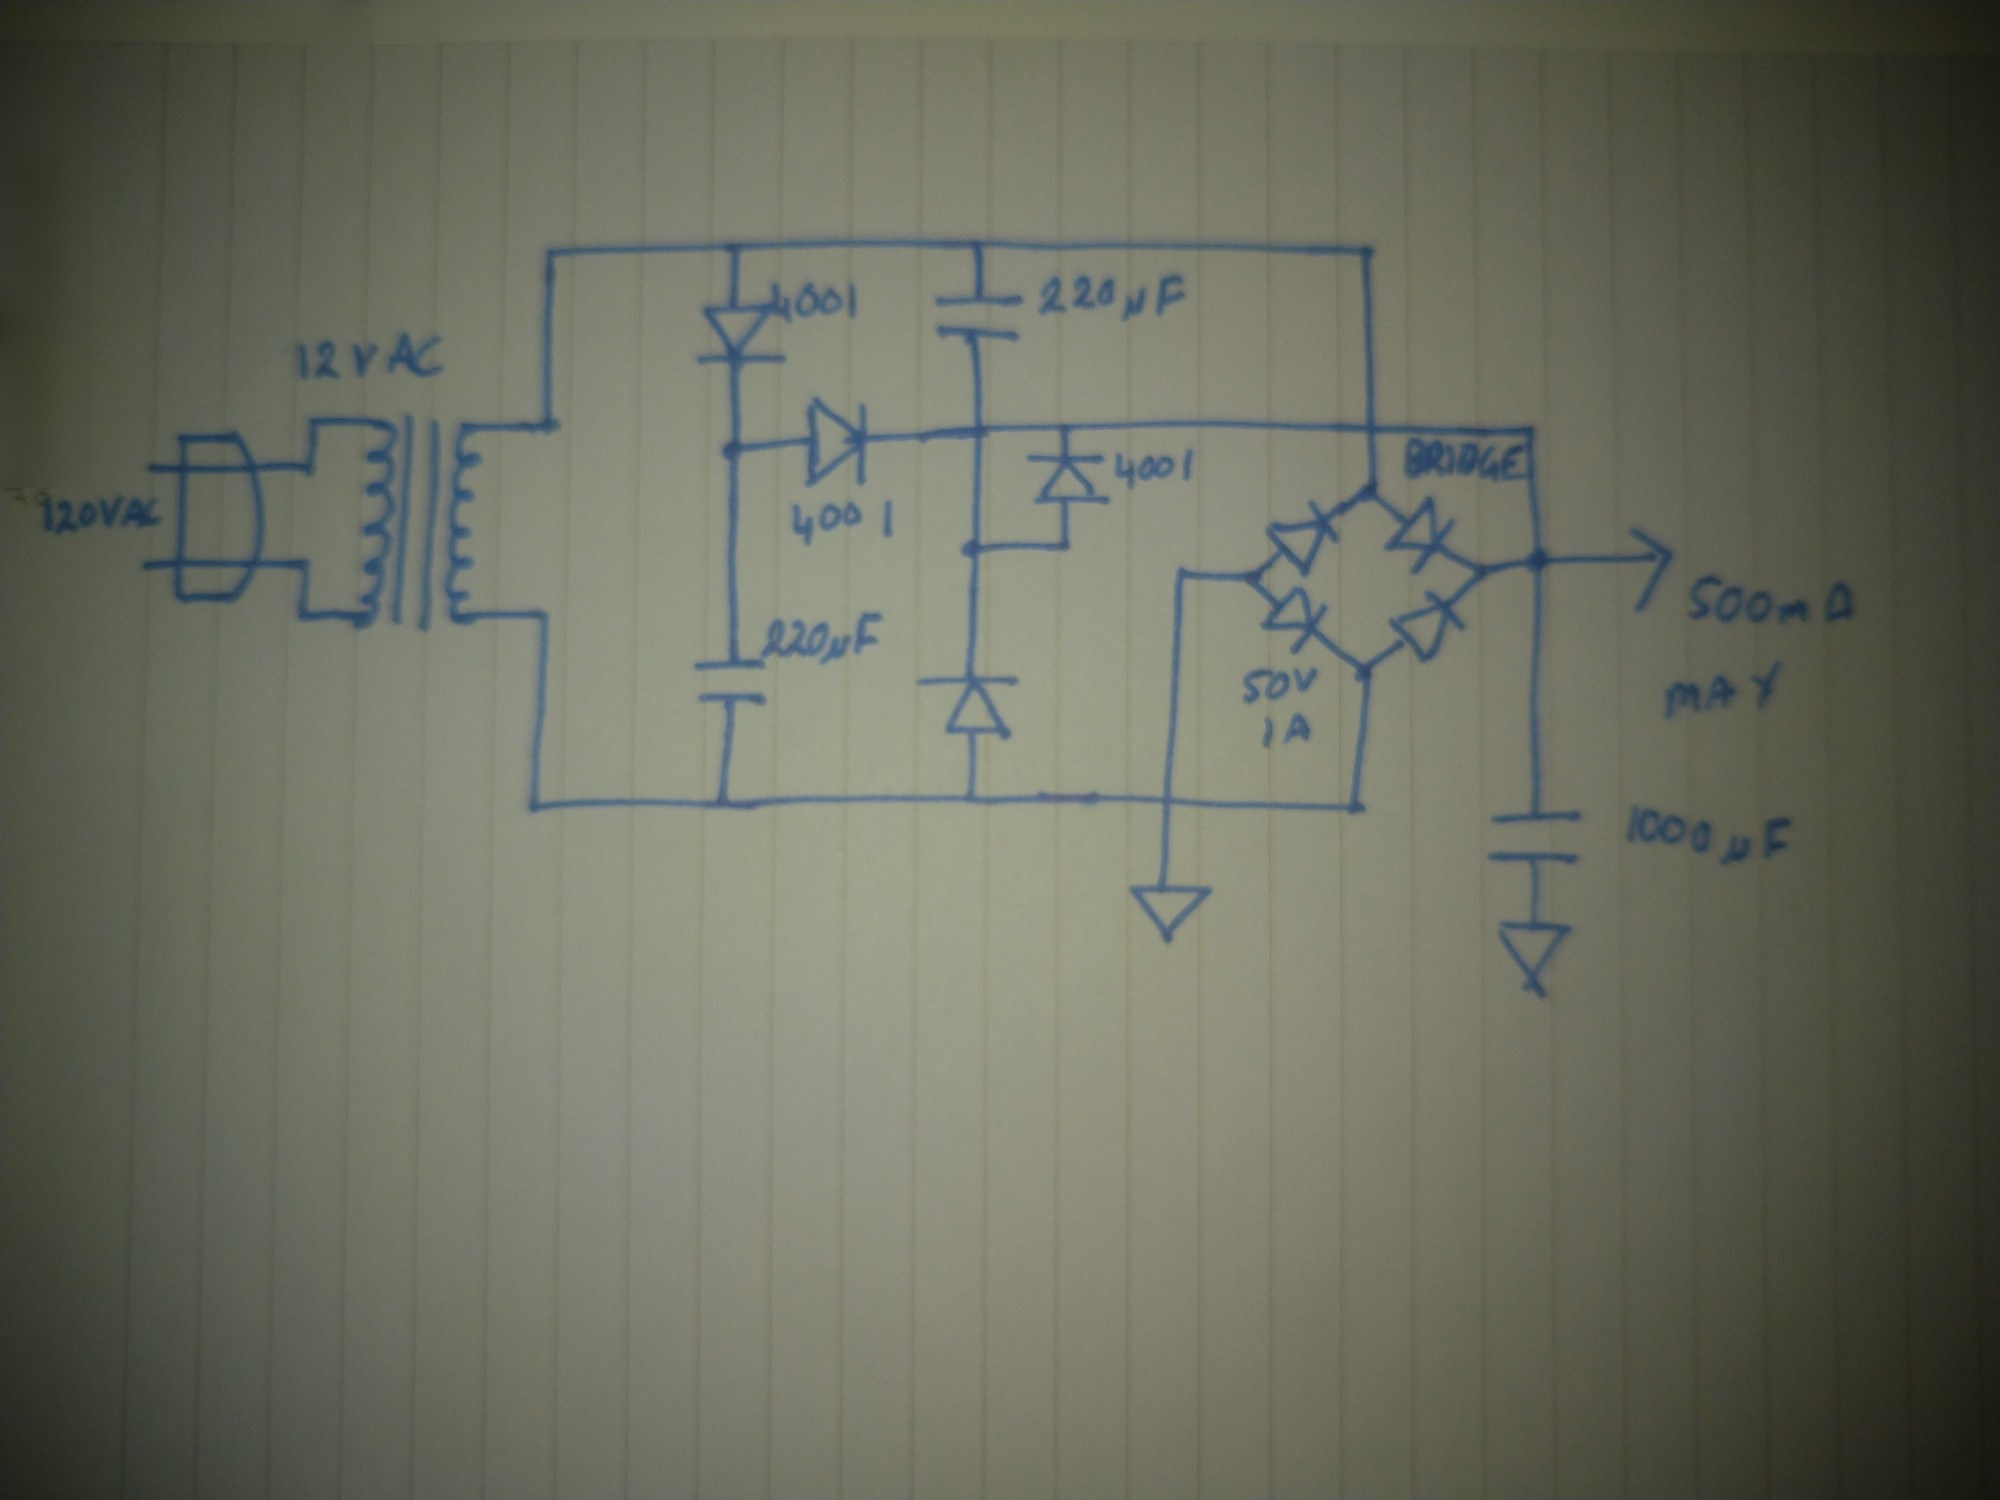capacitor.unpolarized: (1476, 804, 1594, 871), (931, 291, 1028, 348), (693, 654, 772, 709)
crossover: (1154, 791, 1181, 811), (1357, 421, 1383, 441), (967, 421, 987, 443)
diode: (912, 671, 1024, 744), (802, 399, 879, 492), (1384, 588, 1472, 666), (1261, 499, 1343, 578), (690, 307, 791, 370), (1381, 495, 1458, 575), (1019, 452, 1113, 507), (1260, 585, 1331, 655)
junction: (720, 435, 748, 463), (1342, 794, 1370, 822), (961, 534, 987, 561), (1354, 479, 1381, 506), (1524, 548, 1551, 575), (1350, 659, 1375, 682), (532, 607, 556, 630), (1241, 566, 1265, 589), (712, 793, 734, 815), (1054, 418, 1077, 438), (539, 414, 562, 435), (1520, 422, 1540, 444), (724, 236, 746, 257), (1353, 243, 1376, 262), (526, 796, 545, 819), (1054, 536, 1074, 556), (961, 788, 981, 808), (299, 459, 318, 477), (1474, 561, 1491, 581), (543, 243, 561, 263), (969, 235, 987, 252), (1172, 566, 1189, 581), (294, 559, 313, 574), (294, 610, 310, 626), (306, 414, 321, 430)
socket: (169, 422, 271, 610)
terminal: (1491, 917, 1587, 1005), (1126, 882, 1217, 947), (1624, 525, 1676, 614), (137, 555, 164, 578), (142, 455, 165, 481)
text: (1616, 800, 1802, 870), (1683, 574, 1861, 633), (1658, 655, 1787, 726), (291, 329, 457, 383), (759, 608, 891, 666), (1036, 273, 1189, 321), (31, 492, 169, 537), (787, 496, 898, 550), (1402, 436, 1526, 482), (767, 279, 861, 323), (1110, 447, 1202, 492), (1243, 662, 1323, 706), (1260, 707, 1317, 750)
transformer: (351, 411, 494, 637)
